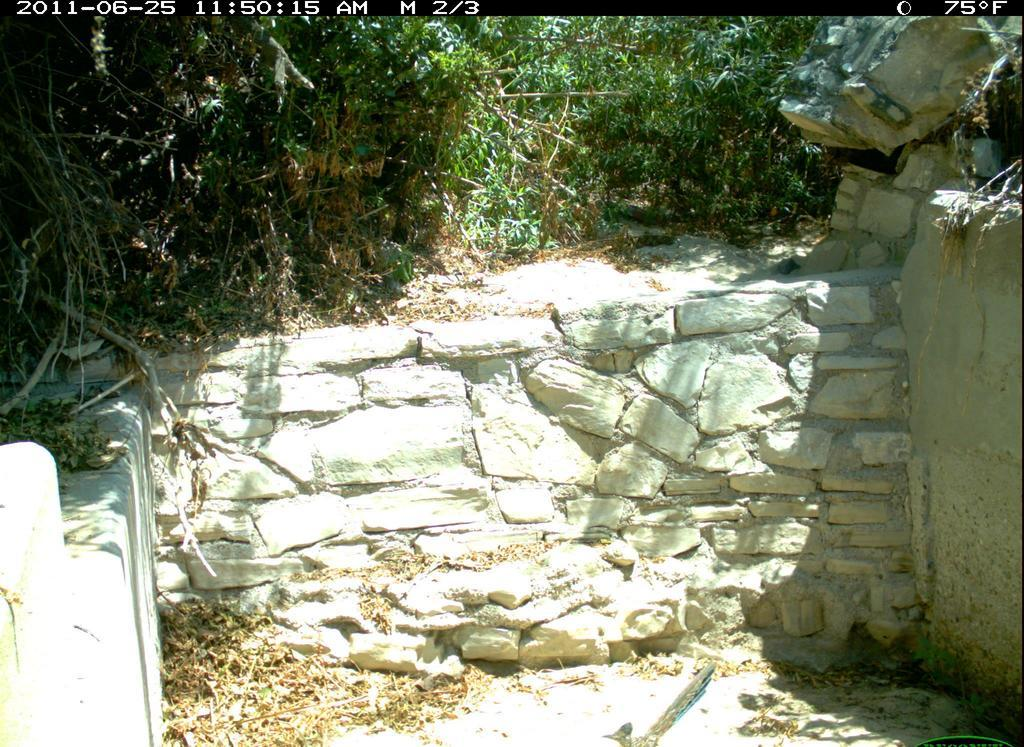bird: (598, 662, 721, 747)
